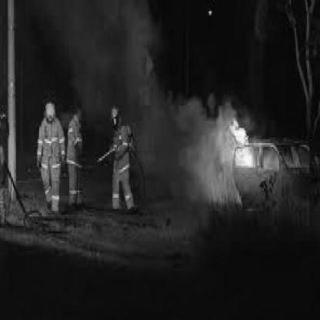Fire: (228, 109, 254, 165)
Smoke: (69, 10, 157, 97), (157, 102, 230, 192)
other: (106, 106, 139, 210), (65, 100, 89, 207)
